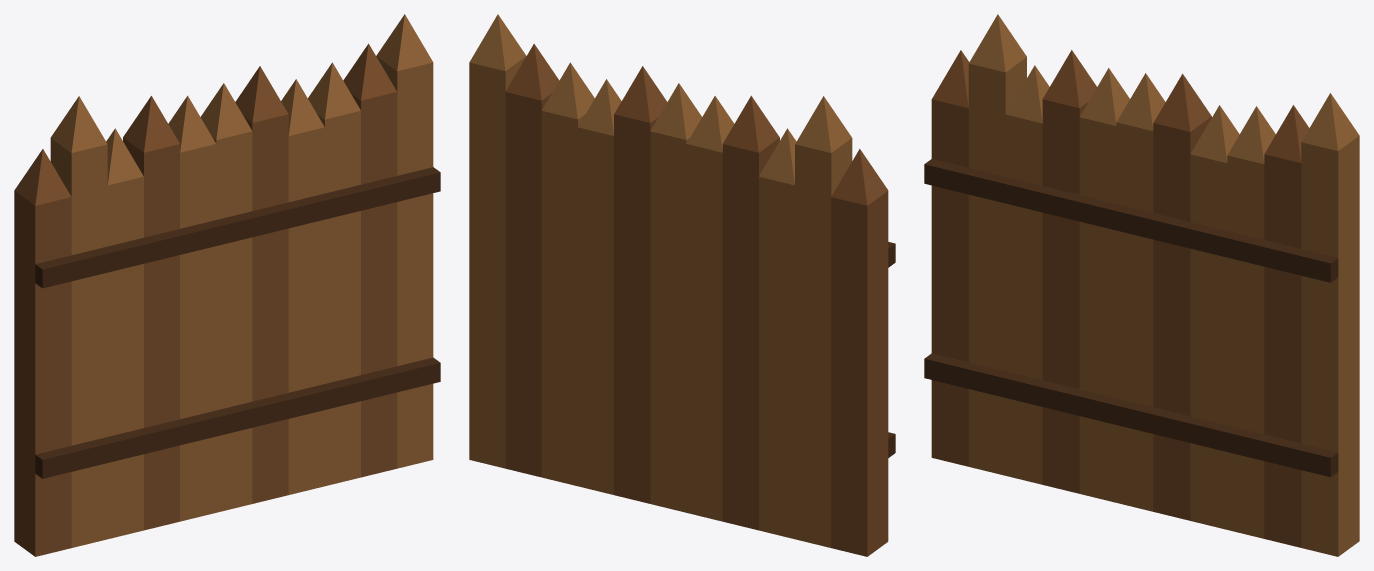
Rendered from camp_wall.glb.
The picture shows the model from 3 angles, left to right: view 1: azimuth 30°, elevation 25°; view 2: azimuth 150°, elevation 25°; view 3: azimuth 330°, elevation 25°; orthographic projection. The views are drawn at different scales.
Visible parts, largest first — view 1: camp_wall; view 2: camp_wall; view 3: camp_wall.
Part boxes in pixels (left/top/right/bottom): camp_wall: left=14, top=14, right=440, bottom=556; camp_wall: left=469, top=14, right=895, bottom=556; camp_wall: left=924, top=14, right=1359, bottom=556.
Size of the model in its own units: 3.5 by 3.72 by 0.43.
1 material, 1 textured.
